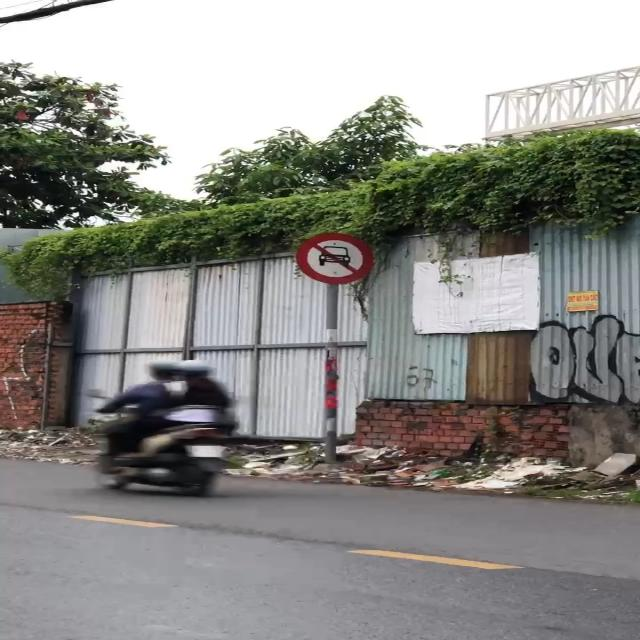Bien bao cam xe oto: (292, 232, 379, 288)
